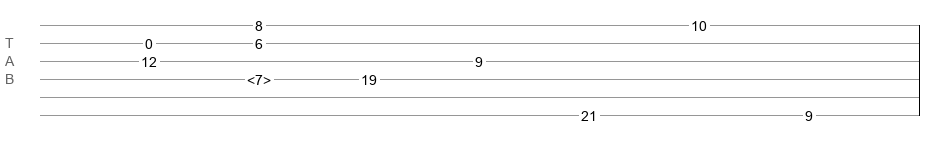0: (145, 36, 153, 46)
10: (691, 18, 707, 28)
12: (141, 54, 157, 64)
19: (361, 72, 377, 82)
21: (581, 108, 597, 118)
6: (255, 36, 263, 46)
8: (255, 18, 263, 28)
9: (475, 54, 483, 64), (805, 108, 813, 118)
harmonic: (247, 72, 271, 82)
